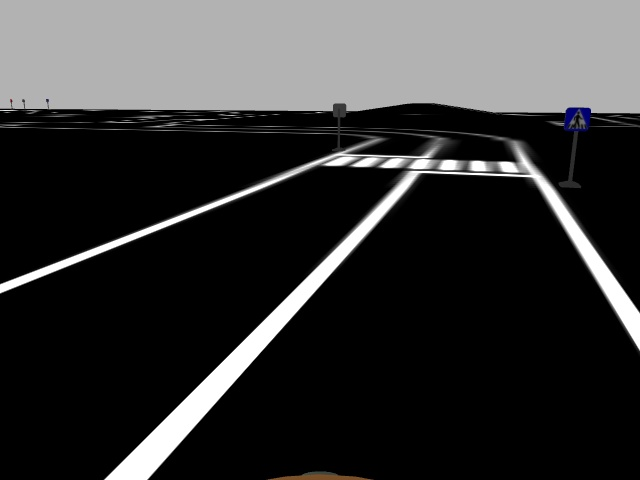crosswalk: (563, 104, 592, 134)
